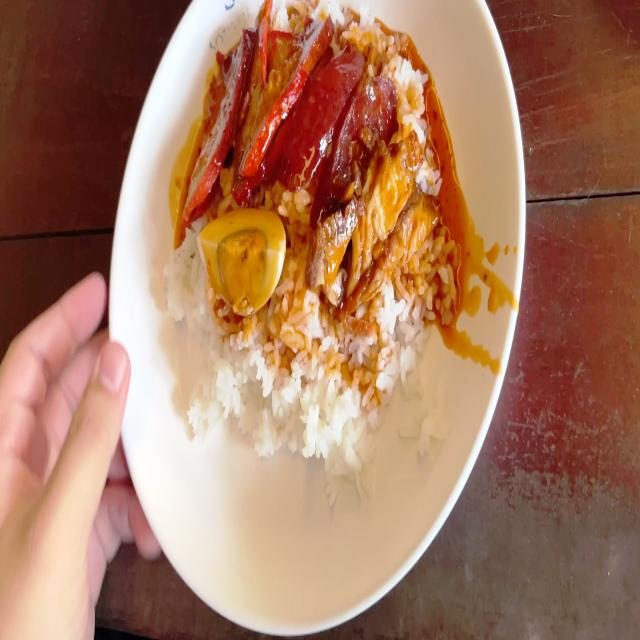boiled_egg: (200, 208, 285, 301)
chainese_sausage: (286, 53, 393, 186)
crispy_pork: (332, 152, 444, 301)
red_pork: (186, 17, 316, 204)
red_pork_and_crispy_pork: (174, 0, 448, 462)
rice: (199, 310, 403, 450)
